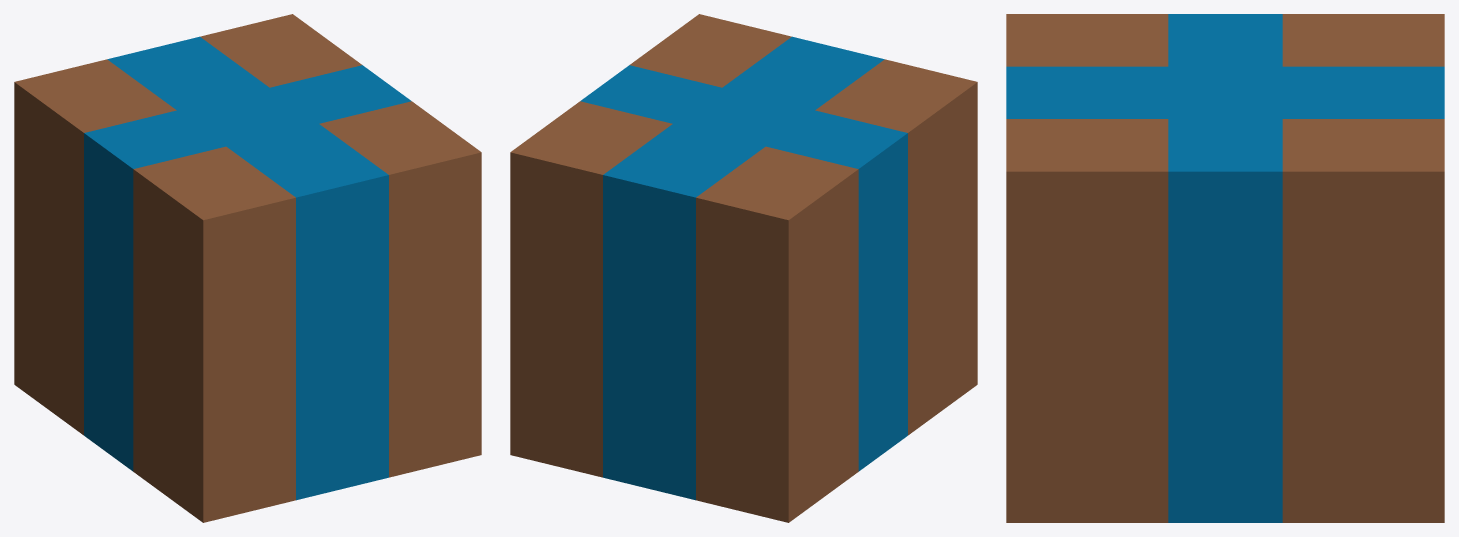
Rendered from small_package.glb.
3 views of the same model, side by side, from view 1: azimuth 30°, elevation 25°; view 2: azimuth 150°, elevation 25°; view 3: azimuth 270°, elevation 25° (orthographic). The views are drawn at different scales.
Parts seen in each view (by area): view 1: package.001; view 2: package.001; view 3: package.001.
Part boxes in pixels (x1=…): package.001: x1=14, y1=14, x2=481, y2=522; package.001: x1=510, y1=14, x2=977, y2=522; package.001: x1=1006, y1=14, x2=1444, y2=522.
Bounding box in the file's own units: 0.4755 × 0.4939 × 0.559.
